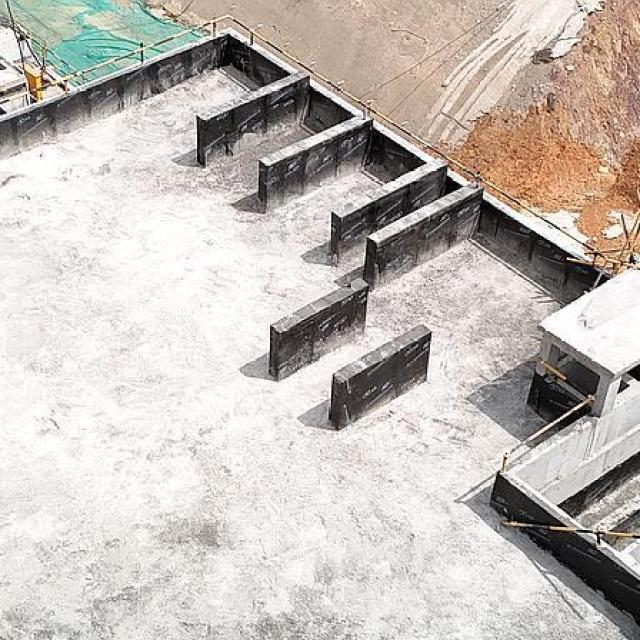edge_guardrail: (0, 12, 610, 265), (502, 357, 594, 472), (500, 520, 640, 544), (26, 34, 78, 75)
